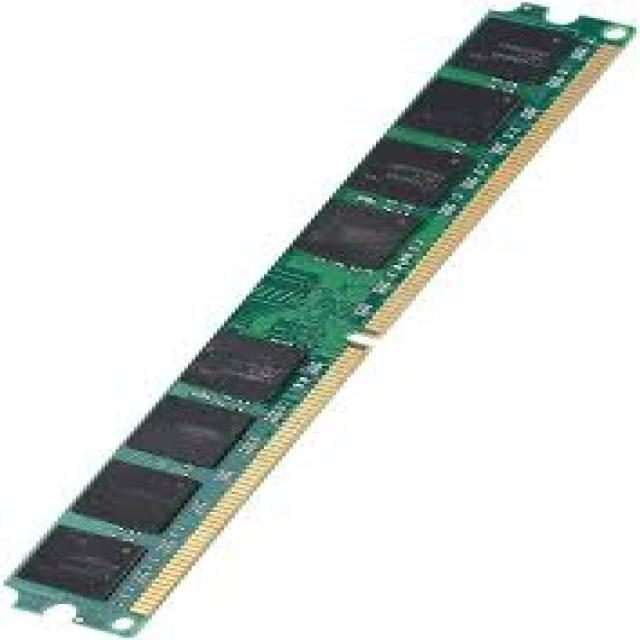Ram: (147, 34, 557, 631)
